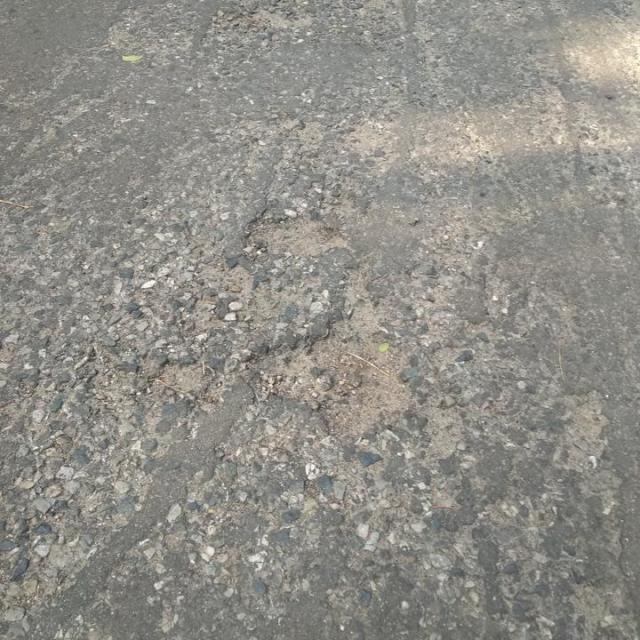medium_pothole: (240, 297, 414, 438), (241, 210, 348, 263)
minor_pothole: (144, 356, 208, 396)
